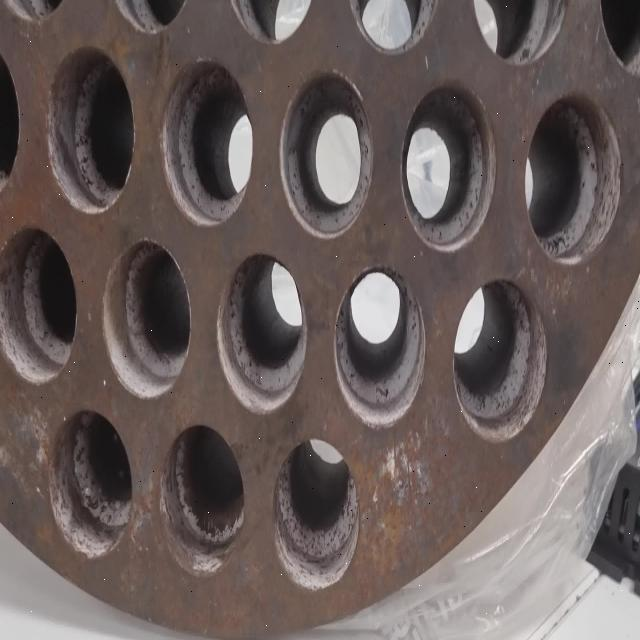Hole: (524, 93, 622, 265), (401, 80, 496, 252), (279, 71, 374, 240), (452, 278, 548, 443), (161, 59, 254, 227), (216, 250, 307, 415), (334, 266, 426, 428), (46, 46, 134, 214), (102, 238, 192, 400), (273, 438, 360, 592), (160, 422, 245, 576), (48, 407, 133, 557), (1, 224, 77, 385), (470, 0, 570, 65), (346, 0, 441, 55), (225, 0, 321, 44), (0, 37, 21, 215), (598, 0, 640, 77), (103, 0, 194, 32), (1, 0, 76, 23)
